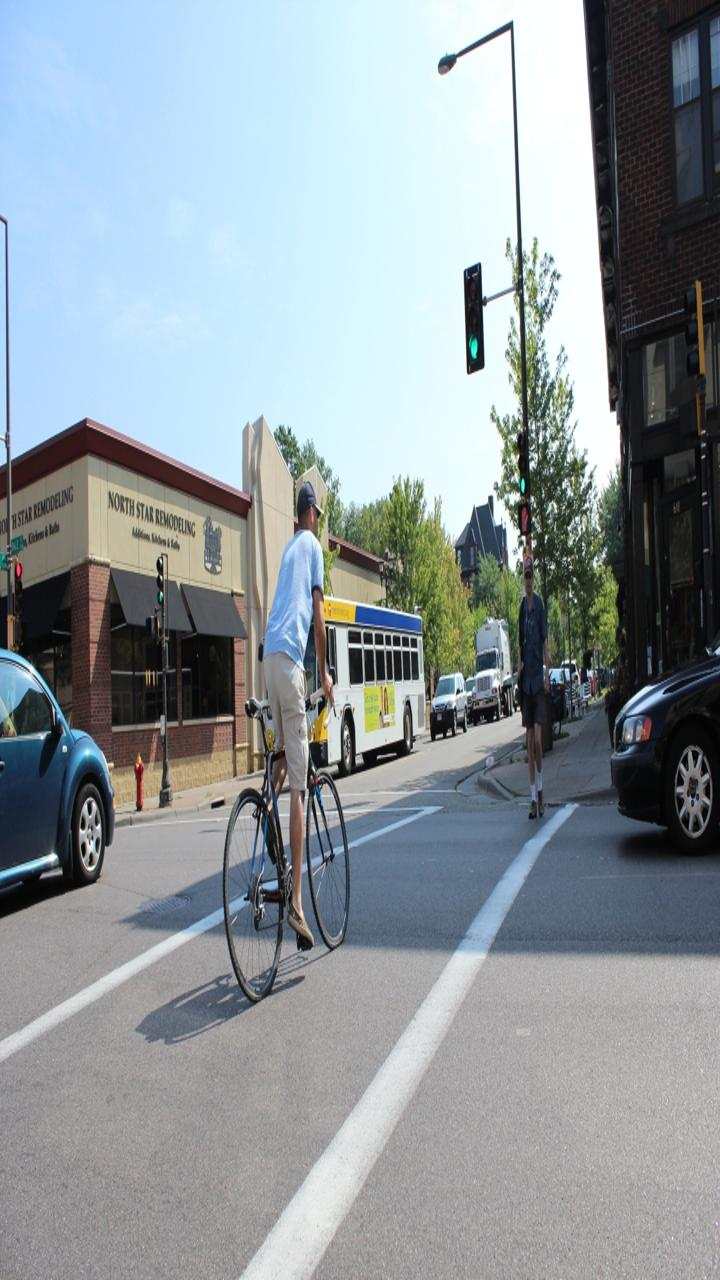bicycle: (194, 688, 368, 1005)
cyclist: (264, 460, 326, 959)
pedestrian: (503, 539, 579, 825)
vehicle: (1, 640, 128, 893), (616, 673, 720, 844), (420, 623, 507, 780)
